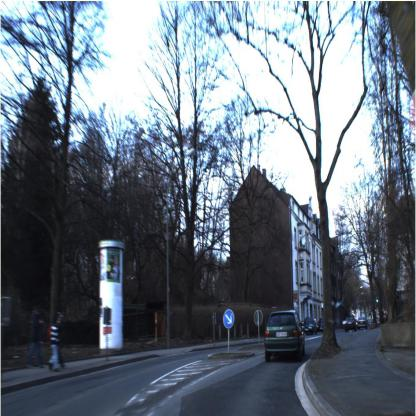mandatory: (221, 305, 237, 334)
